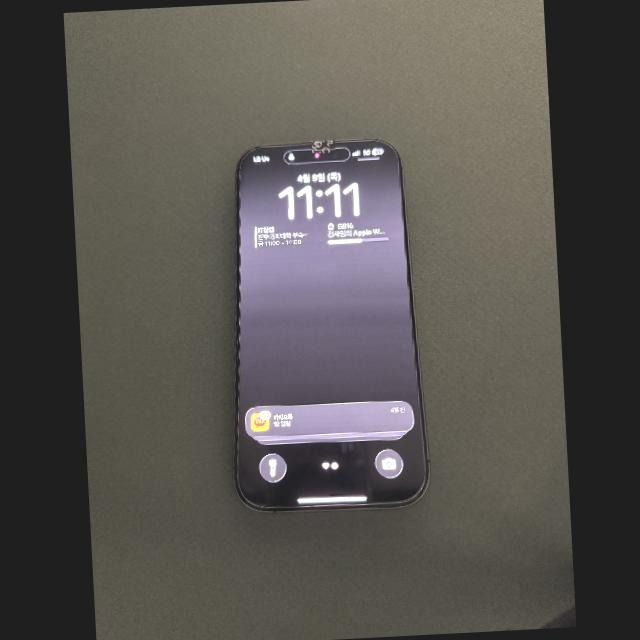lens: (332, 151, 340, 159)
phone: (234, 139, 429, 511)
sticker: (311, 139, 336, 154)
